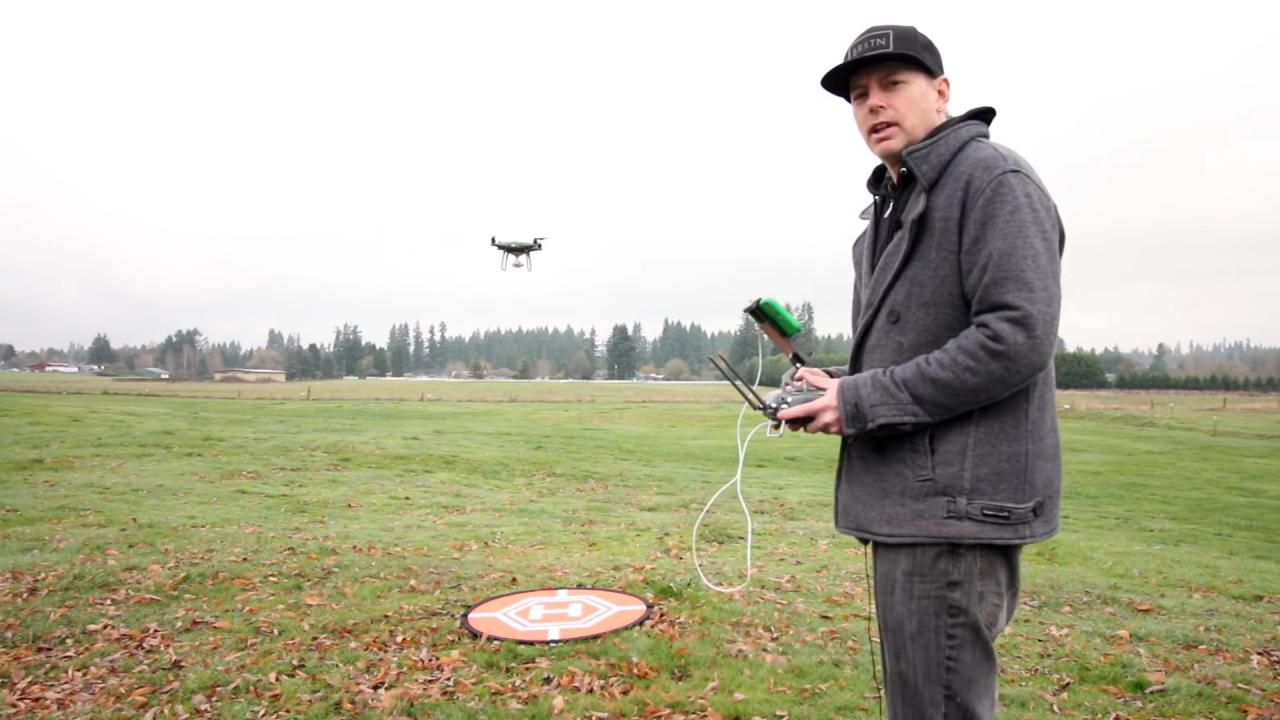Drone: (476, 227, 559, 283)
